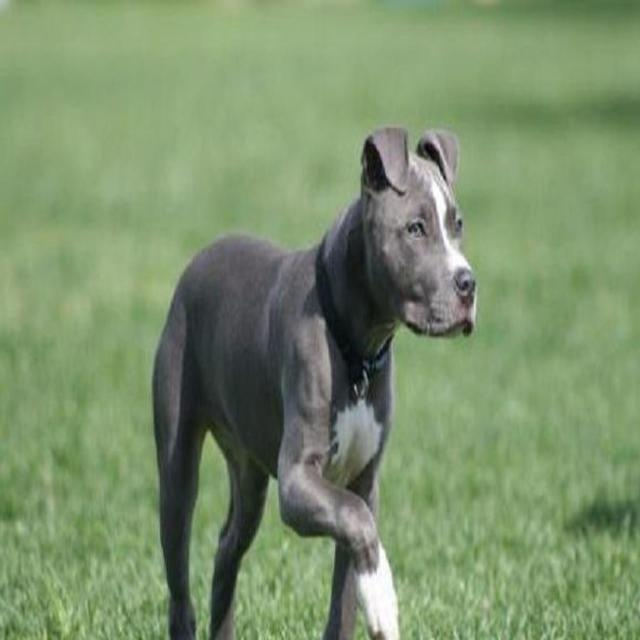Dog: (352, 115, 490, 356)
